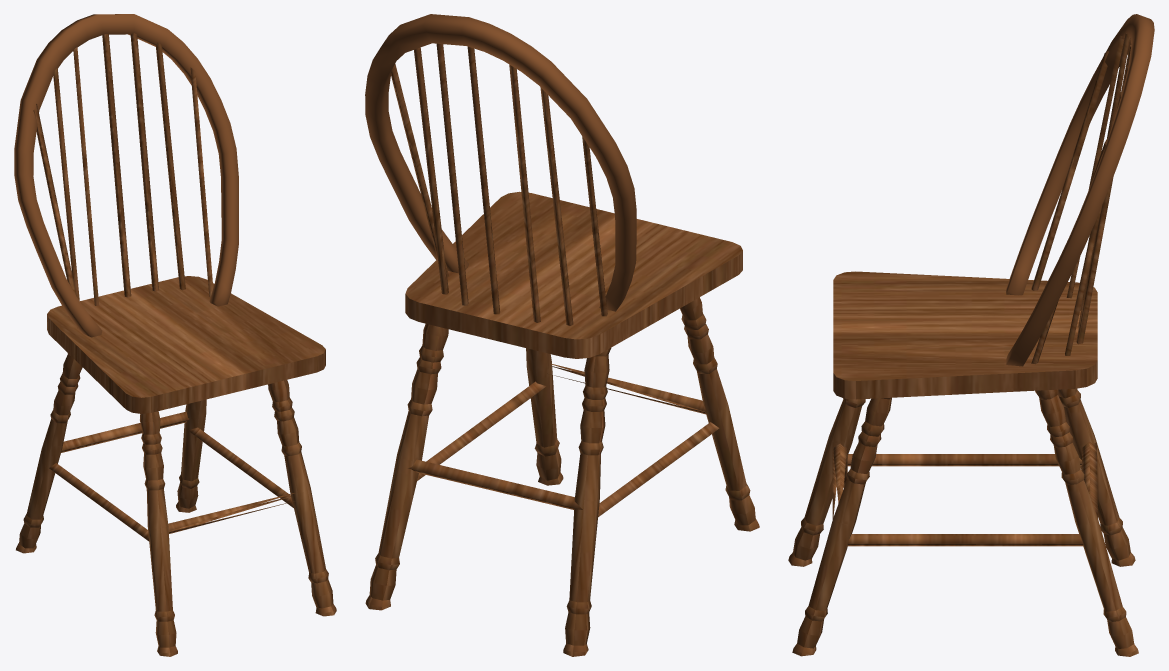
The model's file is chair3.fbx.
3 renders of one model, left to right at view 1: azimuth 30°, elevation 25°; view 2: azimuth 150°, elevation 25°; view 3: azimuth 270°, elevation 25°, orthographic. The views are drawn at different scales.
Visible parts, largest first — view 1: hair_Dining_Wood_Traditional_003; view 2: hair_Dining_Wood_Traditional_003; view 3: hair_Dining_Wood_Traditional_003.
Part boxes in pixels (left/top/right/bottom): hair_Dining_Wood_Traditional_003: left=14, top=14, right=336, bottom=656; hair_Dining_Wood_Traditional_003: left=365, top=14, right=759, bottom=656; hair_Dining_Wood_Traditional_003: left=788, top=14, right=1154, bottom=656.
Bounding box in the file's own units: 41.91 × 96.19 × 54.88.
1 material, 1 textured.
